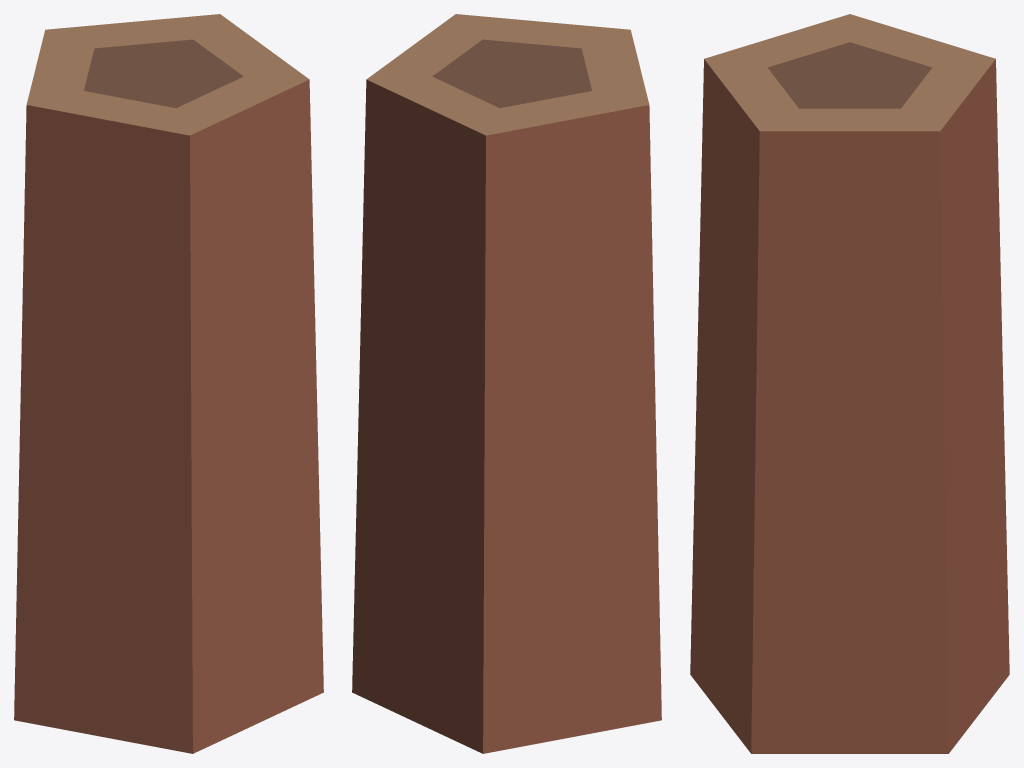
Rendered from TB_Env_Trunk_Long_A.FBX.
3 views of the same model, side by side, from view 1: azimuth 30°, elevation 25°; view 2: azimuth 150°, elevation 25°; view 3: azimuth 270°, elevation 25° (orthographic).
Parts seen in each view (by area): view 1: TB_Env_Trunk_Long_A; view 2: TB_Env_Trunk_Long_A; view 3: TB_Env_Trunk_Long_A.
Part boxes in pixels (<box>): TB_Env_Trunk_Long_A: <box>14,14,323,753</box>; TB_Env_Trunk_Long_A: <box>352,14,661,753</box>; TB_Env_Trunk_Long_A: <box>690,14,1009,753</box>.
Size of the model in its own units: 0.7256 by 1.63 by 0.7629.
